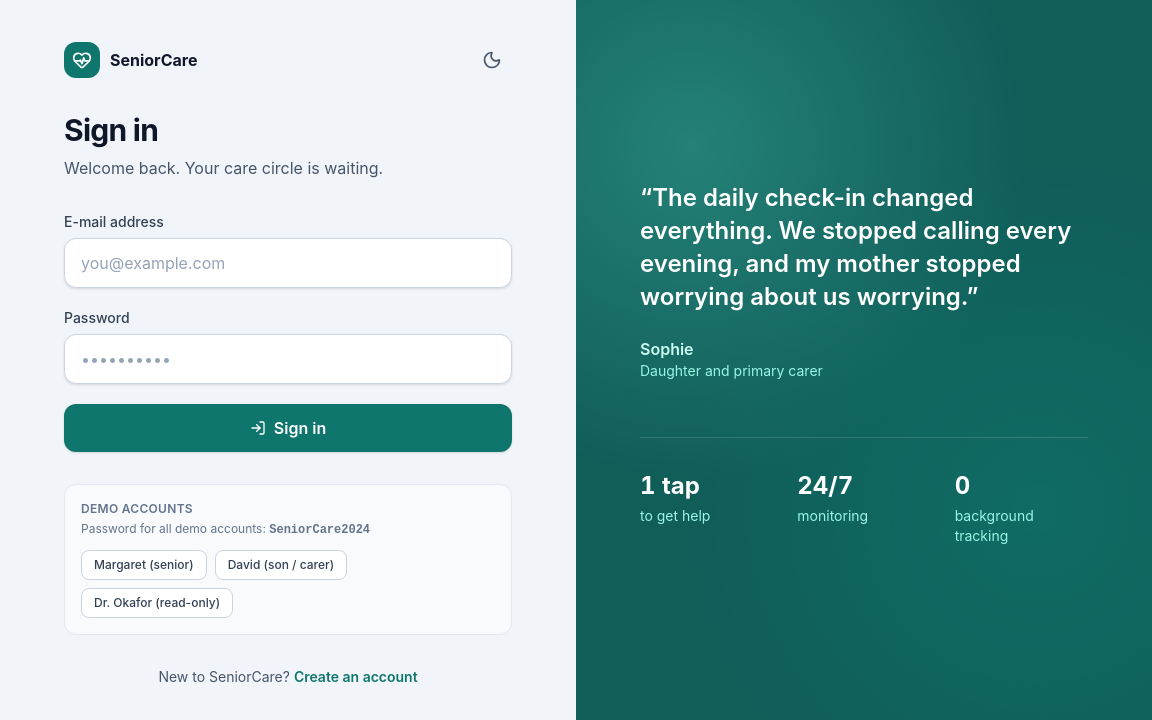
Scenario: Login form › fills the form from a demo account shortcut
Click the button "Margaret (senior)" at (144, 565), box [81, 550, 207, 580]
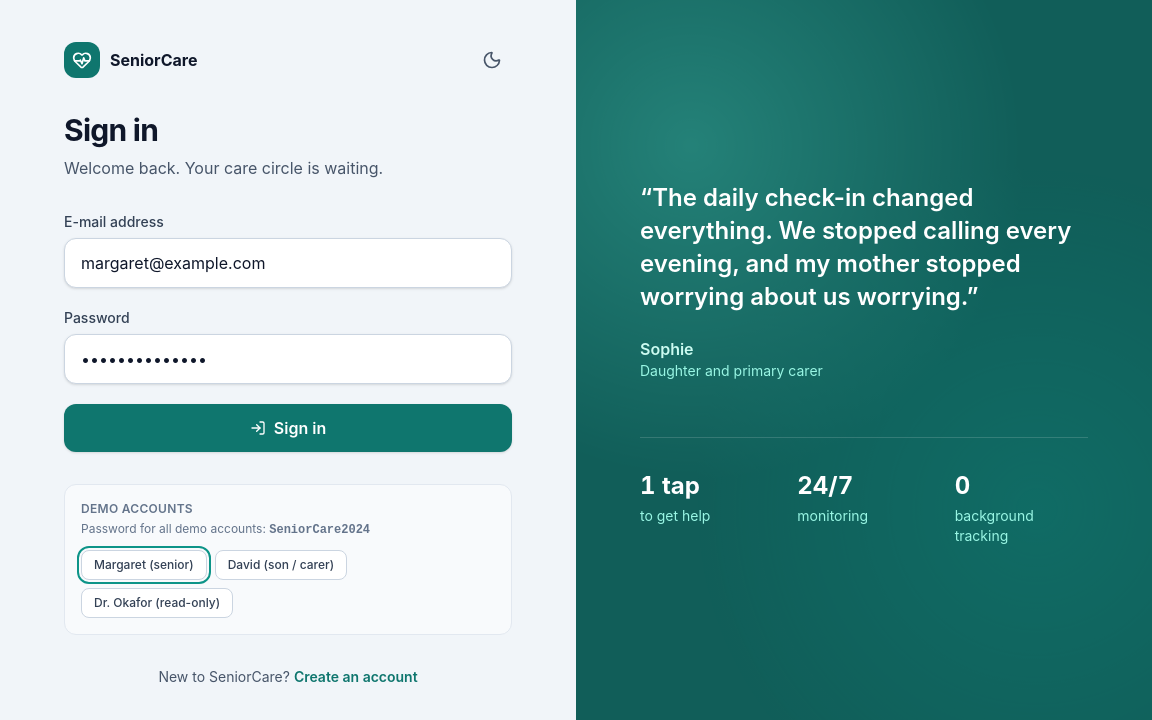
Expected: the field labelled "E-mail address" holds "margaret@example.com", [64, 238, 512, 288]
Expected: the password field labelled "Password" holds "SeniorCare2024", [64, 334, 512, 384]
